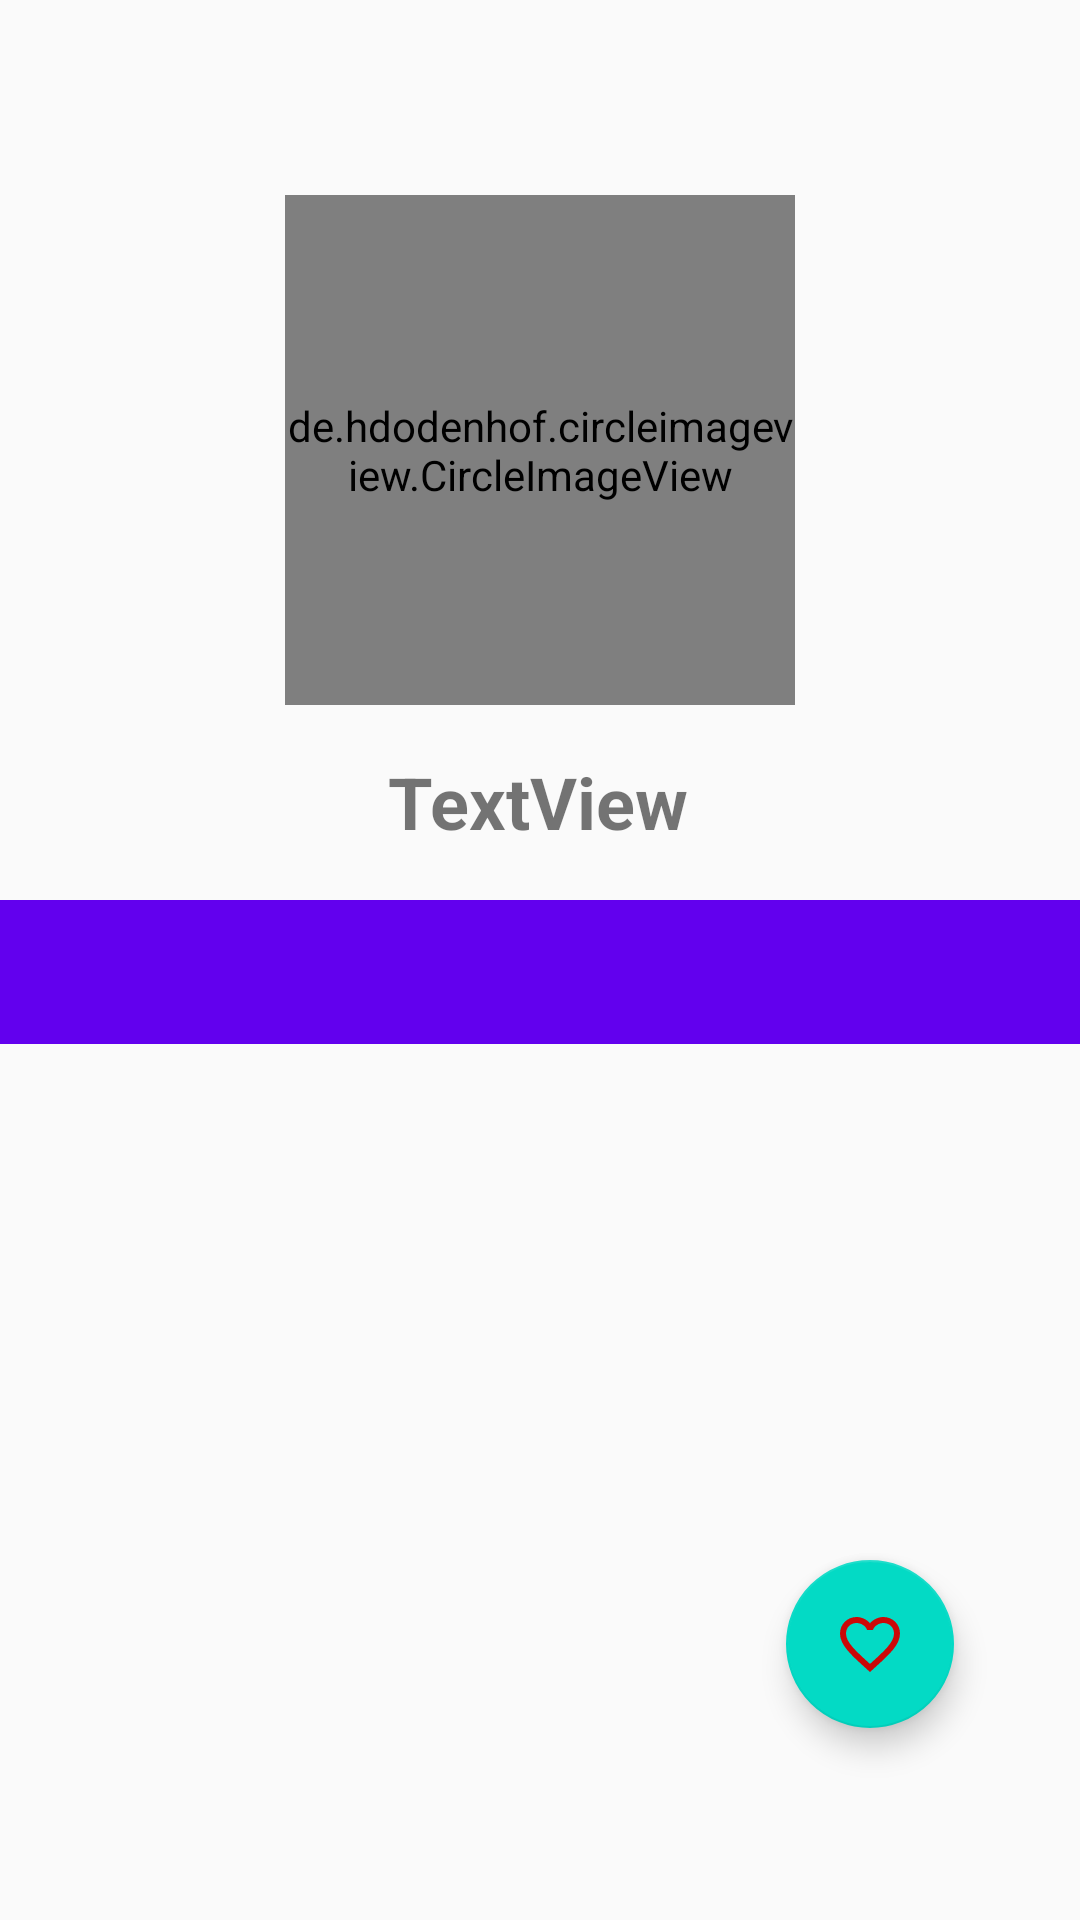

Screen size 1080 x 1920. Icon name, then its box in pixels as (x1, y1, x2, y2):
favorite border: (786, 1560, 954, 1728)
